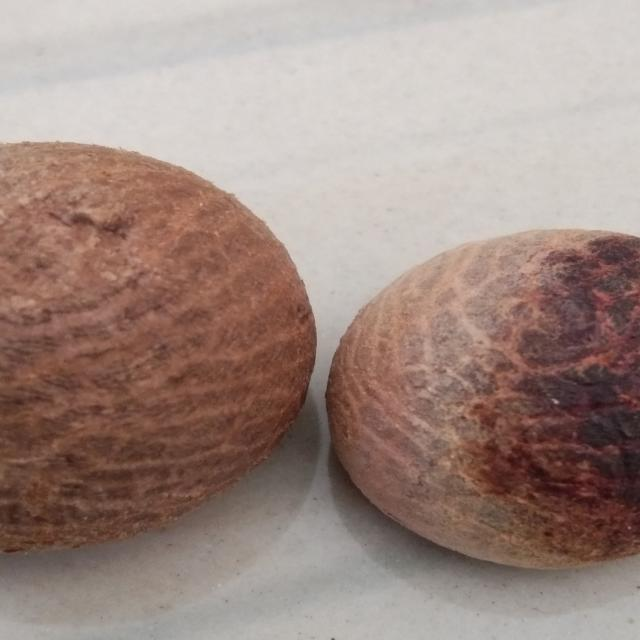good: (0, 136, 318, 571)
karigot: (337, 216, 640, 593)
